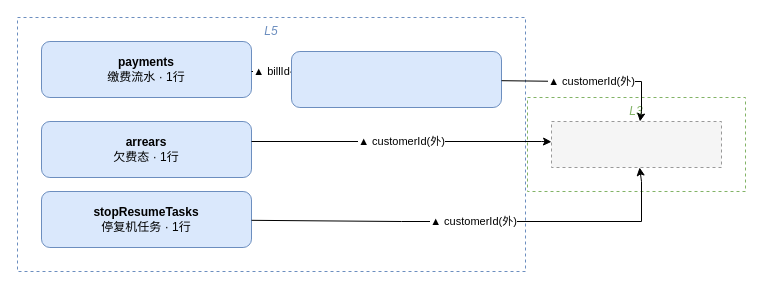
This 763x289 diagram has some shape labels left out. Each missing label, with the box of its shape:
bills 账单 · 3行: (290, 50, 502, 108)
customers 客户档案(外部引用): (550, 120, 722, 168)
